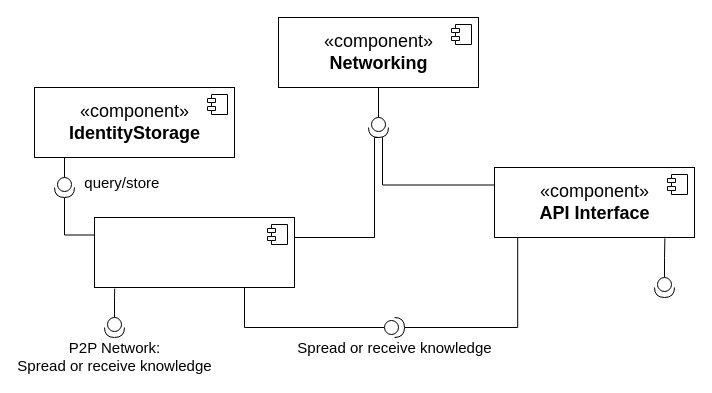
The diagram is 712 pixels wide and 393 high, and some of its shapes have lost their labels. Here are the shapes that lost their labels. From the top down, the centre of each, then its label:
At point 378,127: "TCPClient/TCPServer".
At point 194,252: "«component» Gossip Protocol".
At point 664,287: "API Calls".
